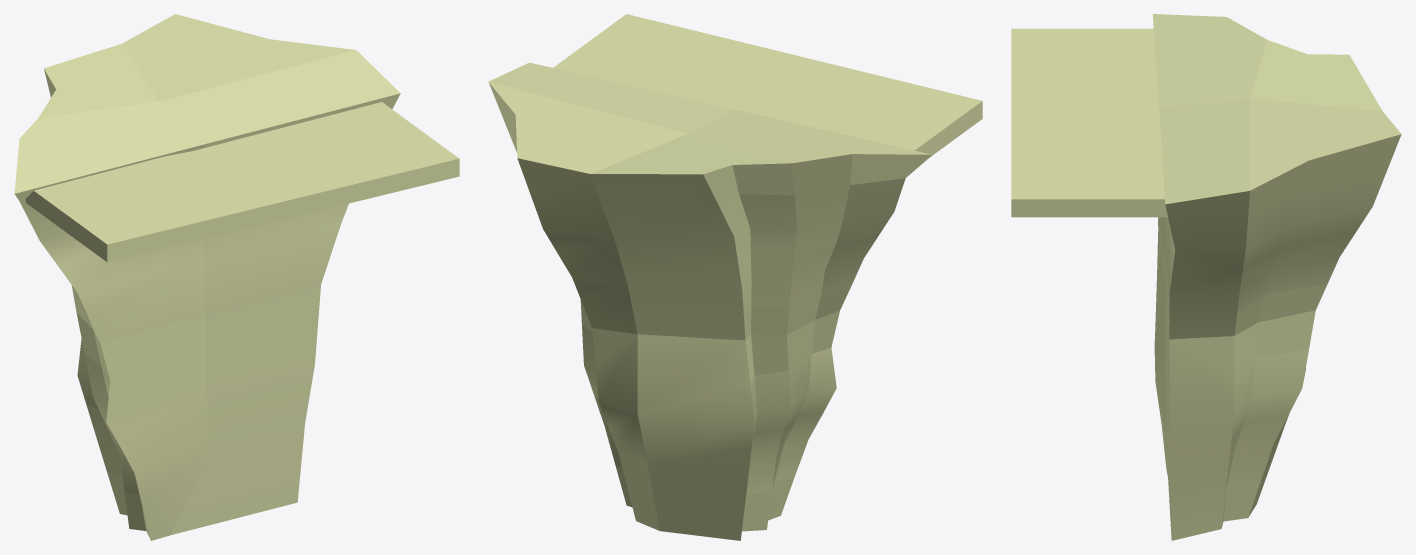
Rendered from CrystalPlatform2V1.fbx.
3 renders of one model, left to right at view 1: azimuth 30°, elevation 25°; view 2: azimuth 150°, elevation 25°; view 3: azimuth 270°, elevation 25°, orthographic.
Visible parts, largest first — view 1: pCube1, pCube2; view 2: pCube1, pCube2; view 3: pCube1, pCube2.
Part boxes in pixels (left/top/right/bottom): pCube1: left=14, top=14, right=400, bottom=540; pCube2: left=25, top=102, right=459, bottom=262; pCube1: left=488, top=62, right=932, bottom=540; pCube2: left=553, top=14, right=982, bottom=157; pCube1: left=1152, top=14, right=1401, bottom=540; pCube2: left=1011, top=28, right=1167, bottom=217.
Size of the model in its own units: 1.81 by 1.8 by 1.57.
